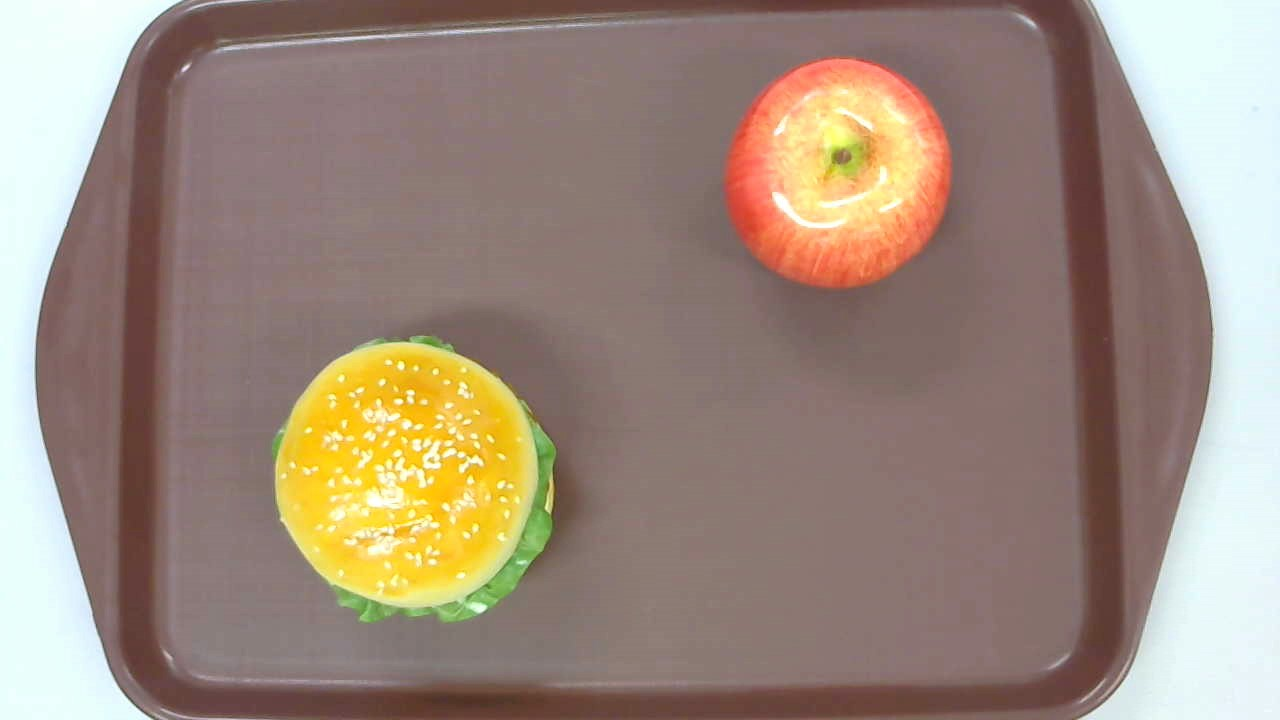hamburger: (269, 333, 556, 626)
red apple: (723, 57, 952, 288)
